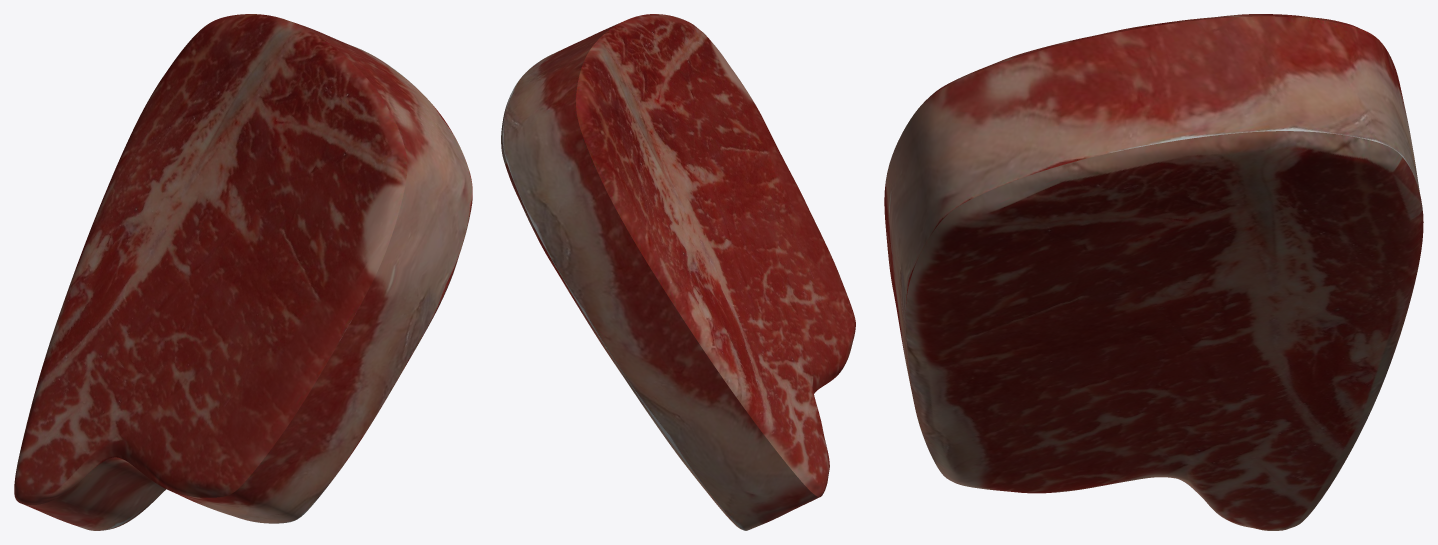
File: steak.glb
3 renders of one model, left to right at view 1: azimuth 30°, elevation 25°; view 2: azimuth 150°, elevation 25°; view 3: azimuth 270°, elevation 25°, orthographic. The views are drawn at different scales.
Visible parts, largest first — view 1: node-0; view 2: node-0; view 3: node-0.
Boxes of the visible parts, x1,y1,x2,y2 form: node-0: (14,14,472,530); node-0: (501,14,855,530); node-0: (884,14,1423,530).
Bounding box in the file's own units: 2.56 × 3.28 × 2.52.
Materials: 1 (1 with a texture image).
